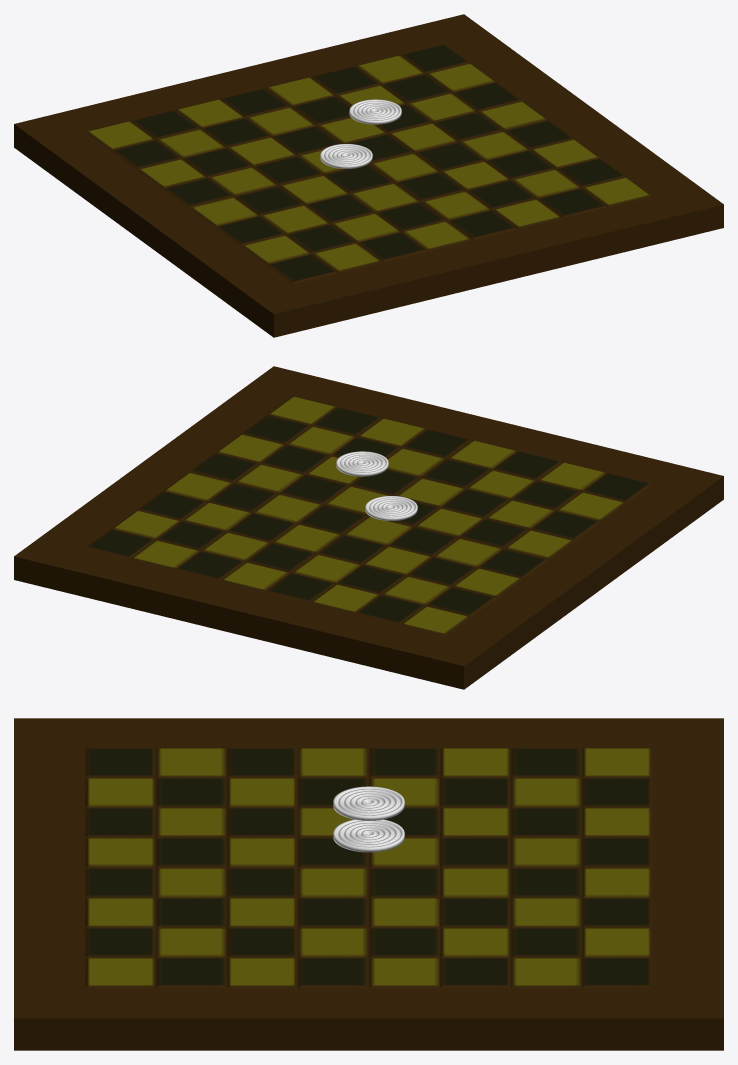
File: Figure.fbx
3 views of the same model, one above another, from view 1: azimuth 30°, elevation 25°; view 2: azimuth 150°, elevation 25°; view 3: azimuth 270°, elevation 25° (orthographic). The views are drawn at different scales.
Visible parts, largest first — view 1: Board, FigureWhite, FigureBlack; view 2: Board, FigureWhite, FigureBlack; view 3: Board, FigureWhite, FigureBlack.
Part boxes in pixels (x1=…): Board: x1=14, y1=14, x2=723, y2=337; FigureWhite: x1=349, y1=99, x2=401, y2=124; FigureBlack: x1=320, y1=144, x2=372, y2=168; Board: x1=14, y1=366, x2=723, y2=689; FigureWhite: x1=336, y1=451, x2=388, y2=476; FigureBlack: x1=365, y1=496, x2=417, y2=520; Board: x1=14, y1=718, x2=723, y2=1050; FigureWhite: x1=333, y1=786, x2=404, y2=820; FigureBlack: x1=333, y1=819, x2=404, y2=852.
Bounding box in the file's own units: 2000 × 322 × 2000.
